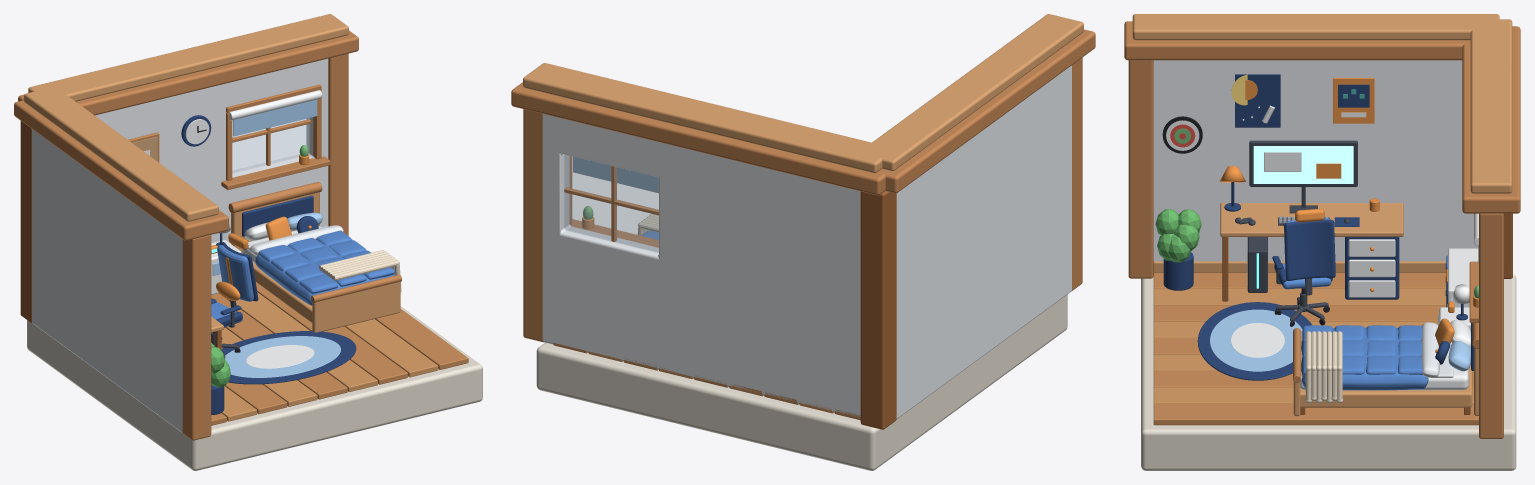
Rendered from cozy_room.glb.
3 renders of one model, left to right at view 1: azimuth 30°, elevation 25°; view 2: azimuth 150°, elevation 25°; view 3: azimuth 270°, elevation 25°, orthographic. The views are drawn at different scales.
Visible parts, largest first — view 1: WallLeft, Plinth, WallBack, CapBack, CapLeft, FrontPostL, BeamBack, BeamLeft, FrontPostB, Footboard, RugInner, CornerPost (+24 smaller); view 2: WallBack, WallLeft, Plinth, CapBack, CapLeft, CornerPost, BeamBack, WinGlass, BeamLeft, FrontPostB, FrontPostL, Blind (+1 smaller); view 3: WallLeft, Plinth, CapLeft, CapBack, BeamLeft, Plank_8, FrontPostL, FrontPostB, DeskTop, BeamBack, Plank_1, Plank_2 (+43 smaller).
Part boxes in pixels (left/top/right/bottom): WallLeft: left=32, top=129, right=182, bottom=432; Plinth: left=27, top=306, right=482, bottom=470; WallBack: left=95, top=58, right=328, bottom=243; CapBack: left=28, top=14, right=348, bottom=101; CapLeft: left=24, top=87, right=218, bottom=221; FrontPostL: left=182, top=235, right=211, bottom=440; BeamBack: left=18, top=30, right=358, bottom=115; BeamLeft: left=14, top=100, right=228, bottom=240; FrontPostB: left=328, top=53, right=348, bottom=235; Footboard: left=312, top=281, right=400, bottom=332; RugInner: left=225, top=336, right=340, bottom=377; CornerPost: left=20, top=121, right=31, bottom=323; WallBack: left=542, top=114, right=860, bottom=417; WallLeft: left=896, top=65, right=1071, bottom=418; Plinth: left=536, top=294, right=1067, bottom=470; CapBack: left=523, top=63, right=890, bottom=173; CapLeft: left=861, top=14, right=1083, bottom=171; CornerPost: left=860, top=191, right=896, bottom=429; BeamBack: left=511, top=82, right=887, bottom=195; WinGlass: left=564, top=154, right=658, bottom=252; BeamLeft: left=879, top=29, right=1095, bottom=193; FrontPostB: left=523, top=109, right=543, bottom=342; FrontPostL: left=1071, top=57, right=1082, bottom=291; Blind: left=573, top=156, right=658, bottom=192; WallLeft: left=1153, top=60, right=1478, bottom=276; Plinth: left=1141, top=274, right=1516, bottom=470; CapLeft: left=1132, top=14, right=1499, bottom=40; CapBack: left=1470, top=19, right=1512, bottom=193; BeamLeft: left=1124, top=21, right=1469, bottom=60; Plank_8: left=1153, top=404, right=1478, bottom=425; FrontPostL: left=1128, top=60, right=1153, bottom=278; FrontPostB: left=1479, top=213, right=1503, bottom=438; DeskTop: left=1220, top=203, right=1403, bottom=236; BeamBack: left=1462, top=26, right=1520, bottom=213; Plank_1: left=1153, top=288, right=1446, bottom=304; Plank_2: left=1153, top=305, right=1446, bottom=321.
Size of the model in its own units: 5.05 by 3.91 by 4.75.
